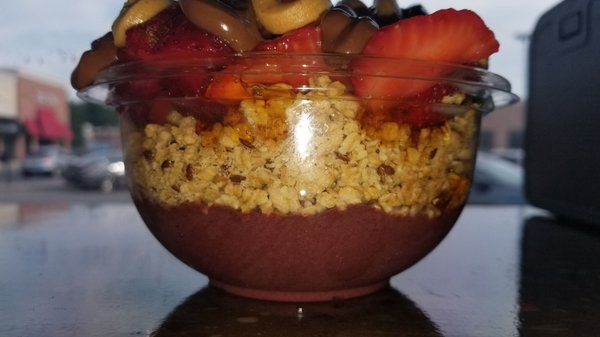burger: (71, 0, 490, 302)
